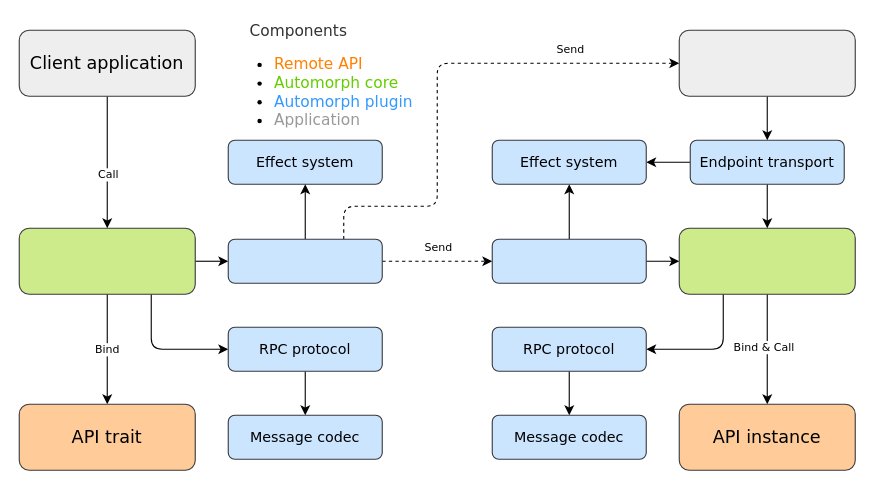
Some shapes in this 875 by 490 pixel diagram are drawn without their labels. The shapes that lost their labels are listed below. From the top down, each one's box as (x1, y1, x2, y2) in pixels, then its label:
(678, 29, 855, 96): Server application
(18, 227, 195, 294): RPC client
(227, 238, 382, 283): Client transport
(491, 238, 646, 283): Server transport
(678, 227, 855, 294): RPC server
